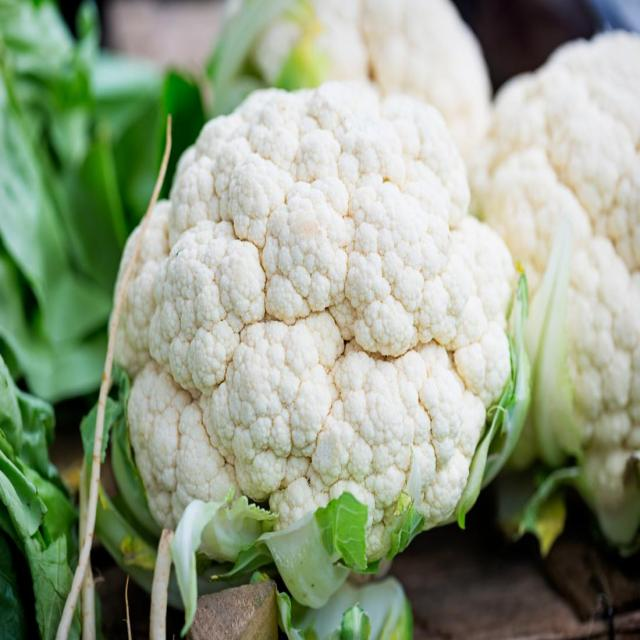cauliflower: (80, 62, 511, 626), (520, 56, 640, 503)
